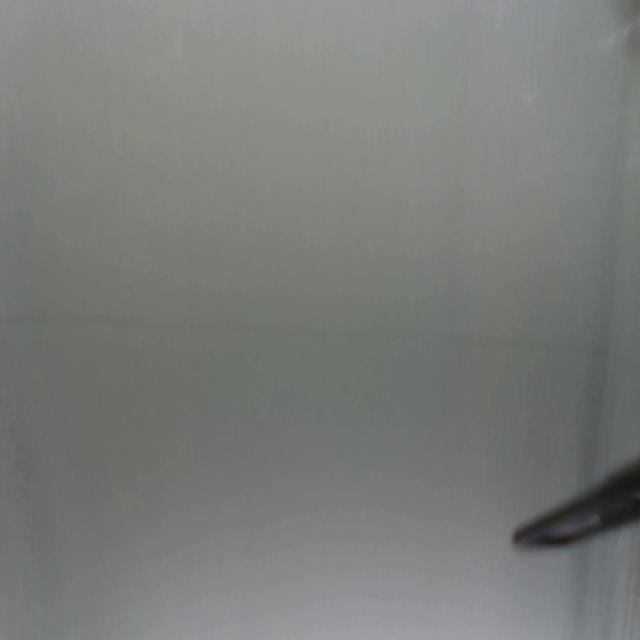color bleeding: (1, 304, 638, 370)
